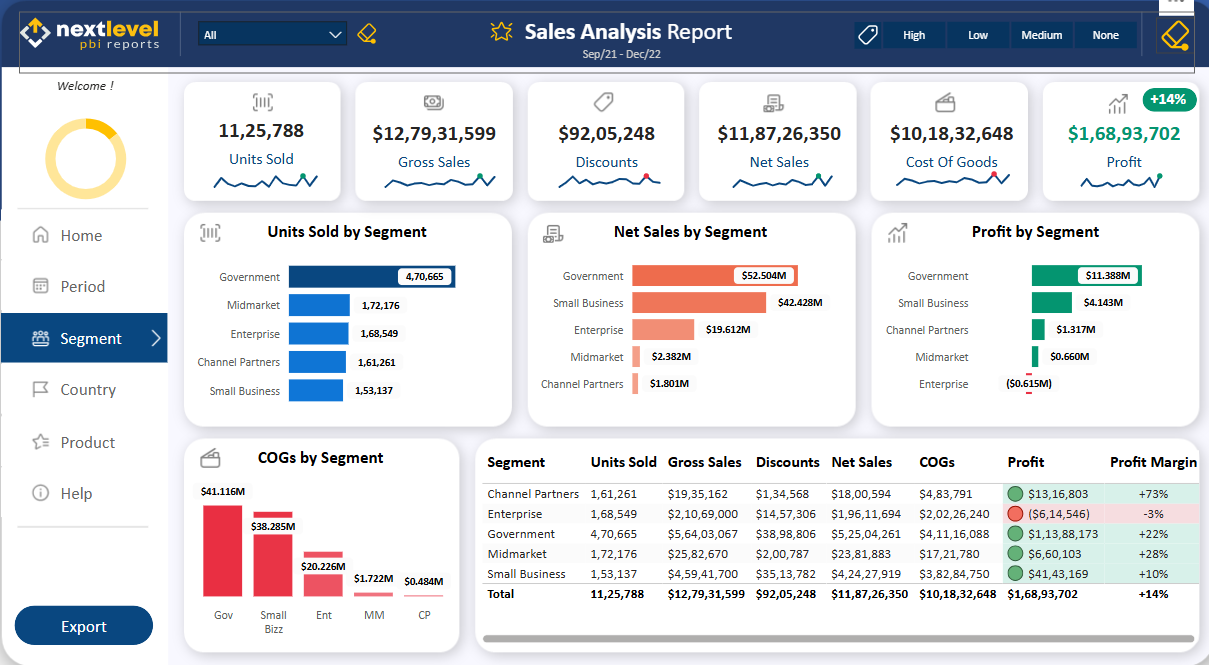

The dashboard page shown, as its layout file describes it:
{"tool":"powerbi","page":{"name":"Sales Analysis","canvas":[1280,720],"ordinal":1},"visuals":[{"type":"actionButton","title":"Button Clear Discount","box":[1193,41,39,35],"z":0,"group":"g4"},{"type":"pivotTable","fields":{"Rows":["DIM_MANAGERS.Image URL"]},"box":[70,140,85,85],"z":0,"group":"g6"},{"type":"pivotTable","title":"Spark_Profit","fields":{"Values":["SparklineData(*Measures.M_Profit_[DIM_DATE.YearMonth])"]},"box":[1088,164,160,64],"z":0,"group":"g2"},{"type":"areaChart","title":"Units Sold by  Period","fields":{"Category":["DIM_DATE.Reporting Period"],"Y":["*Measures.M_Units Sold"]},"box":[216,246,320,200],"z":0,"group":"g1"},{"type":"actionButton","title":"Button_Period _Active","box":[28,289,168,50],"z":0,"group":"g5"},{"type":"actionButton","title":"Button_Export","box":[42,635,140,40],"z":0,"group":"g3"},{"type":"shape","title":"Shape_Divider Right","box":[1163,35,32,45],"z":500,"group":"g4"},{"type":"shape","title":"Shape Hide Mgr Image","box":[64,144,85,85],"z":1000,"group":"g6"},{"type":"pivotTable","title":"Spark_COG","fields":{"Values":["SparklineData(*Measures.M_Cost Of Goods_[DIM_DATE.YearMonth])"]},"box":[902,164,160,64],"z":1000,"group":"g2"},{"type":"areaChart","title":"Net Sales by  Period","fields":{"Category":["DIM_DATE.Reporting Period"],"Y":["*Measures.M_Net Sales"]},"box":[564,246,320,192],"z":1000,"group":"g1"},{"type":"actionButton","box":[166,289,30,50],"z":1000,"group":"g5"},{"type":"shape","title":"Shape_divider 2","box":[45,539,132,32],"z":1000,"group":"g3"},{"type":"slicer","title":"Slicer Discount","fields":{"Values":["FACT_SALES.Discount Band"]},"box":[892,38,306,41],"z":1250,"group":"g4"},{"type":"actionButton","title":"Button_Discount Icon","box":[888,45,27,27],"z":1625,"group":"g4"},{"type":"card","title":"Card_Date_Range","fields":{"Values":["*Measures.M_Date Selection"]},"box":[591,59.3,123,38],"z":1812,"group":"g4"},{"type":"textbox","title":"Text box_Titles","box":[551,34.3,235,41],"z":1906,"group":"g4"},{"type":"donutChart","title":"Donut_chart","fields":{"Y":["*Measures.M_Profit Margin","*Measures.M_100% Minus Profit Margin"]},"box":[48,128,128,112],"z":2000,"group":"g6"},{"type":"pivotTable","title":"Spark_Net Sales","fields":{"Values":["SparklineData(*Measures.M_Net Sales_[DIM_DATE.YearMonth])"]},"box":[736.8,164,160,64],"z":2000,"group":"g2"},{"type":"shape","title":"Shape_divider 1","box":[45,218,132,32],"z":2000,"group":"g3"},{"type":"areaChart","title":"Profit by  Period","fields":{"Category":["DIM_DATE.Reporting Period"],"Y":["*Measures.M_Profit"]},"box":[912,246,320,192],"z":2000,"group":"g1"},{"type":"actionButton","title":"Button_Title Icon","box":[501,34.3,63,40],"z":3000,"group":"g4"},{"type":"shape","title":"Shape_Scroll Hide","box":[144,128,24,24],"z":3000,"group":"g6"},{"type":"pivotTable","title":"Spark_Discounts","fields":{"Values":["SparklineData(*Measures.M_Discounts_[DIM_DATE.YearMonth])"]},"box":[561.2,164,160,64],"z":3000,"group":"g2"},{"type":"areaChart","title":"COGs by  Period","fields":{"Category":["DIM_DATE.Reporting Period"],"Y":["*Measures.M_Cost Of Goods"]},"box":[200,475,300,200],"z":3000,"group":"g1"},{"type":"actionButton","title":"Button_Help","box":[28,496,168,50],"z":3000,"group":"g3"},{"type":"card","title":"Card_Welcome","fields":{"Values":["*Measures.M_User Greeting"]},"box":[32,96,160,32],"z":4000,"group":"g6"},{"type":"pivotTable","title":"Spark_Gross sales","fields":{"Values":["SparklineData(*Measures.M_Gross Sales_[DIM_DATE.YearMonth])"]},"box":[385.6,164,160,64],"z":4000,"group":"g2"},{"type":"group","id":"g1","title":"Period","box":[200,238,1038,440],"z":4000},{"type":"tableEx","title":"Table_Period","fields":{"Values":["DIM_DATE.Reporting Period","*Measures.M_Units Sold","*Measures.M_Gross Sales","*Measures.M_Discounts","*Measures.M_Net Sales","*Measures.M_Cost Of Goods","*Measures.M_Profit","*Measures.M_Profit Margin Formatted"]},"box":[507,473,731,205],"z":4000,"group":"g1"},{"type":"group","id":"g2","title":"Static","box":[213,103,1035,399],"z":5000},{"type":"pivotTable","title":"Spark_Unit Sold","fields":{"Values":["SparklineData(*Measures.M_Units Sold_[DIM_DATE.YearMonth])"]},"box":[213,164,157,68],"z":5000,"group":"g2"},{"type":"shape","title":"Shape_Profit YOY","box":[1142,246,88,24],"z":5000,"group":"g1"},{"type":"actionButton","title":"Button_Product","box":[28,443.8,168,50],"z":5000,"group":"g3"},{"type":"group","id":"g3","title":"Navigation","box":[28,96,168,579],"z":6000},{"type":"card","title":"Card_Profit","fields":{"Values":["*Measures.M_Profit"]},"box":[1088,119,144,96],"z":6000,"group":"g2"},{"type":"card","title":"Card_Profit YOY","fields":{"Values":["*Measures.M_Profit YOY% Formatted"]},"box":[1142,238,87,42],"z":6000,"group":"g1"},{"type":"group","id":"g4","title":"Header","box":[45,34.3,1187,63],"z":7000},{"type":"card","title":"Card_COG","fields":{"Values":["*Measures.M_Cost Of Goods"]},"box":[913.8,119,144,96],"z":7000,"group":"g2"},{"type":"actionButton","title":"Button_Country","box":[28,391.6,168,50],"z":7000,"group":"g3"},{"type":"actionButton","title":"Button_Clear Managers","box":[378,44,36,25],"z":8000,"group":"g4"},{"type":"card","title":"Card_Net Sales","fields":{"Values":["*Measures.M_Net Sales"]},"box":[739.6,119,144,96],"z":8000,"group":"g2"},{"type":"shape","title":"Shape_Divider Left","box":[192,35,32,45],"z":9000,"group":"g4"},{"type":"card","title":"Card_Discounts","fields":{"Values":["*Measures.M_Discounts"]},"box":[565.4,119,144,96],"z":9000,"group":"g2"},{"type":"actionButton","title":"Button_Segment","box":[28,339.4,168,50],"z":9000,"group":"g3"},{"type":"slicer","title":"Slicer_Managers","fields":{"Values":["DIM_MANAGERS.Manager Name"]},"box":[216,35,170,45],"z":9250,"group":"g4"},{"type":"actionButton","title":"Button Logo","box":[45,37,145,38],"z":9500,"group":"g4"},{"type":"card","title":"Card_Gross Sales","fields":{"Values":["*Measures.M_Gross Sales"]},"box":[391.2,119,144,96],"z":10000,"group":"g2"},{"type":"group","id":"g5","title":"Button_Period _Active","box":[28,289,168,50],"z":10000,"group":"g3"},{"type":"card","title":"Card_Units Sold","fields":{"Values":["*Measures.M_Units Sold"]},"box":[218,119,143,89],"z":11000,"group":"g2"},{"type":"actionButton","title":"Button_Profit Icon","box":[1138,112,32,32],"z":12000,"group":"g2"},{"type":"actionButton","title":"Button_Home","box":[28,235,168,50],"z":12000,"group":"g3"},{"type":"group","id":"g6","title":"Group_Mgr Images","box":[32,96,160,144],"z":13000,"group":"g3"},{"type":"actionButton","title":"Button_COG Icon","box":[963.8,110,32,32],"z":13000,"group":"g2"},{"type":"actionButton","title":"Button_NetSales Icon","box":[791.6,110,32,32],"z":14000,"group":"g2"},{"type":"actionButton","title":"Button_Discounts Icon","box":[619.4,110,32,32],"z":15000,"group":"g2"},{"type":"actionButton","title":"Button_Gross Sales Icon","box":[447.2,110,32,32],"z":16000,"group":"g2"},{"type":"actionButton","title":"Button_Units Sold Icon","box":[275,110,32,32],"z":17000,"group":"g2"},{"type":"shape","title":"Shape_Profit Margin","box":[1179,112,55,24],"z":18000,"group":"g2"},{"type":"card","title":"Card_Profit Margin","fields":{"Values":["*Measures.M_Profit Margin Formatted"]},"box":[1178,103,54,42],"z":19000,"group":"g2"},{"type":"actionButton","title":"Button_Profit Icon","box":[915,243,32,32],"z":20000,"group":"g2"},{"type":"actionButton","title":"Button_COG Icon","box":[222,470,32,32],"z":21000,"group":"g2"},{"type":"actionButton","title":"Button_NetSales Icon","box":[568.5,243,32,32],"z":22000,"group":"g2"},{"type":"actionButton","title":"Button_Units Sold Icon","box":[222,243,32,32],"z":23000,"group":"g2"}]}

Visuals, with their boxes on the page's 1280x720 design canvas (x1, y1, x2, y2). These are canvas units, not pixel positions in the 1209x665 screenshot, which may show the page scaled, cropped or inside an application window:
"Button Clear Discount" actionButton: pyautogui.locateOnScreen(1193, 41, 1232, 76)
pivotTable - DIM_MANAGERS.Image URL: pyautogui.locateOnScreen(70, 140, 155, 225)
"Spark_Profit" pivotTable: pyautogui.locateOnScreen(1088, 164, 1248, 228)
"Units Sold by  Period" areaChart: pyautogui.locateOnScreen(216, 246, 536, 446)
"Button_Period _Active" actionButton: pyautogui.locateOnScreen(28, 289, 196, 339)
"Button_Export" actionButton: pyautogui.locateOnScreen(42, 635, 182, 675)
"Shape_Divider Right" shape: pyautogui.locateOnScreen(1163, 35, 1195, 80)
"Shape Hide Mgr Image" shape: pyautogui.locateOnScreen(64, 144, 149, 229)
"Spark_COG" pivotTable: pyautogui.locateOnScreen(902, 164, 1062, 228)
"Net Sales by  Period" areaChart: pyautogui.locateOnScreen(564, 246, 884, 438)
actionButton: pyautogui.locateOnScreen(166, 289, 196, 339)
"Shape_divider 2" shape: pyautogui.locateOnScreen(45, 539, 177, 571)
"Slicer Discount" slicer: pyautogui.locateOnScreen(892, 38, 1198, 79)
"Button_Discount Icon" actionButton: pyautogui.locateOnScreen(888, 45, 915, 72)
"Card_Date_Range" card: pyautogui.locateOnScreen(591, 59, 714, 97)
"Text box_Titles" textbox: pyautogui.locateOnScreen(551, 34, 786, 75)
"Donut_chart" donutChart: pyautogui.locateOnScreen(48, 128, 176, 240)
"Spark_Net Sales" pivotTable: pyautogui.locateOnScreen(737, 164, 897, 228)
"Shape_divider 1" shape: pyautogui.locateOnScreen(45, 218, 177, 250)
"Profit by  Period" areaChart: pyautogui.locateOnScreen(912, 246, 1232, 438)
"Button_Title Icon" actionButton: pyautogui.locateOnScreen(501, 34, 564, 74)
"Shape_Scroll Hide" shape: pyautogui.locateOnScreen(144, 128, 168, 152)
"Spark_Discounts" pivotTable: pyautogui.locateOnScreen(561, 164, 721, 228)
"COGs by  Period" areaChart: pyautogui.locateOnScreen(200, 475, 500, 675)
"Button_Help" actionButton: pyautogui.locateOnScreen(28, 496, 196, 546)
"Card_Welcome" card: pyautogui.locateOnScreen(32, 96, 192, 128)
"Spark_Gross sales" pivotTable: pyautogui.locateOnScreen(386, 164, 546, 228)
"Period" group: pyautogui.locateOnScreen(200, 238, 1238, 678)
"Table_Period" tableEx: pyautogui.locateOnScreen(507, 473, 1238, 678)
"Static" group: pyautogui.locateOnScreen(213, 103, 1248, 502)
"Spark_Unit Sold" pivotTable: pyautogui.locateOnScreen(213, 164, 370, 232)
"Shape_Profit YOY" shape: pyautogui.locateOnScreen(1142, 246, 1230, 270)
"Button_Product" actionButton: pyautogui.locateOnScreen(28, 444, 196, 494)
"Navigation" group: pyautogui.locateOnScreen(28, 96, 196, 675)
"Card_Profit" card: pyautogui.locateOnScreen(1088, 119, 1232, 215)
"Card_Profit YOY" card: pyautogui.locateOnScreen(1142, 238, 1229, 280)
"Header" group: pyautogui.locateOnScreen(45, 34, 1232, 97)
"Card_COG" card: pyautogui.locateOnScreen(914, 119, 1058, 215)
"Button_Country" actionButton: pyautogui.locateOnScreen(28, 392, 196, 442)
"Button_Clear Managers" actionButton: pyautogui.locateOnScreen(378, 44, 414, 69)
"Card_Net Sales" card: pyautogui.locateOnScreen(740, 119, 884, 215)
"Shape_Divider Left" shape: pyautogui.locateOnScreen(192, 35, 224, 80)
"Card_Discounts" card: pyautogui.locateOnScreen(565, 119, 709, 215)
"Button_Segment" actionButton: pyautogui.locateOnScreen(28, 339, 196, 389)
"Slicer_Managers" slicer: pyautogui.locateOnScreen(216, 35, 386, 80)
"Button Logo" actionButton: pyautogui.locateOnScreen(45, 37, 190, 75)
"Card_Gross Sales" card: pyautogui.locateOnScreen(391, 119, 535, 215)
"Button_Period _Active" group: pyautogui.locateOnScreen(28, 289, 196, 339)
"Card_Units Sold" card: pyautogui.locateOnScreen(218, 119, 361, 208)
"Button_Profit Icon" actionButton: pyautogui.locateOnScreen(1138, 112, 1170, 144)
"Button_Home" actionButton: pyautogui.locateOnScreen(28, 235, 196, 285)
"Group_Mgr Images" group: pyautogui.locateOnScreen(32, 96, 192, 240)
"Button_COG Icon" actionButton: pyautogui.locateOnScreen(964, 110, 996, 142)
"Button_NetSales Icon" actionButton: pyautogui.locateOnScreen(792, 110, 824, 142)
"Button_Discounts Icon" actionButton: pyautogui.locateOnScreen(619, 110, 651, 142)
"Button_Gross Sales Icon" actionButton: pyautogui.locateOnScreen(447, 110, 479, 142)
"Button_Units Sold Icon" actionButton: pyautogui.locateOnScreen(275, 110, 307, 142)
"Shape_Profit Margin" shape: pyautogui.locateOnScreen(1179, 112, 1234, 136)
"Card_Profit Margin" card: pyautogui.locateOnScreen(1178, 103, 1232, 145)
"Button_Profit Icon" actionButton: pyautogui.locateOnScreen(915, 243, 947, 275)
"Button_COG Icon" actionButton: pyautogui.locateOnScreen(222, 470, 254, 502)
"Button_NetSales Icon" actionButton: pyautogui.locateOnScreen(568, 243, 600, 275)
"Button_Units Sold Icon" actionButton: pyautogui.locateOnScreen(222, 243, 254, 275)
